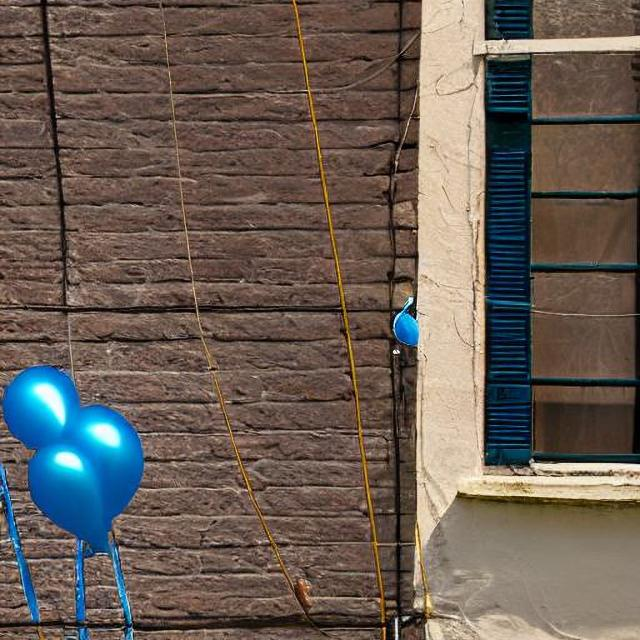balloon: (0, 356, 148, 616)
floating object: (392, 297, 419, 346)
